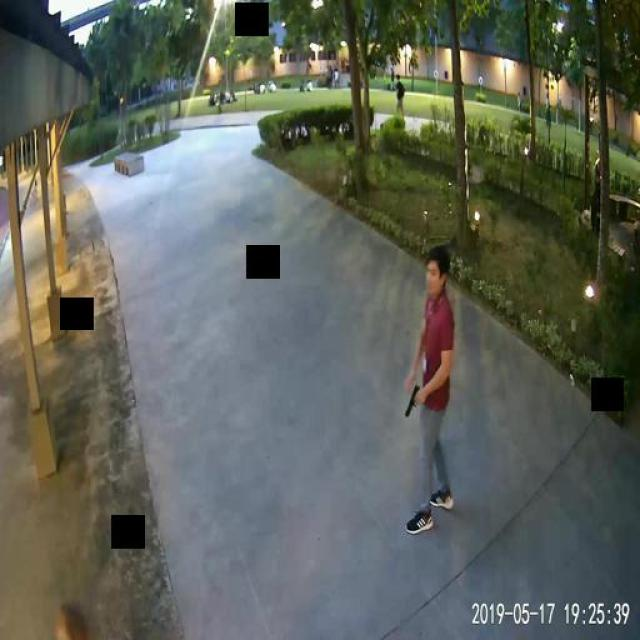gun: (404, 384, 420, 416)
